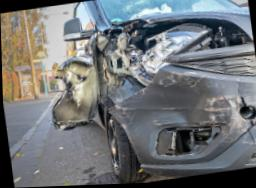Bumper: (142, 81, 255, 174)
Light: (130, 24, 224, 82), (96, 50, 143, 119)
